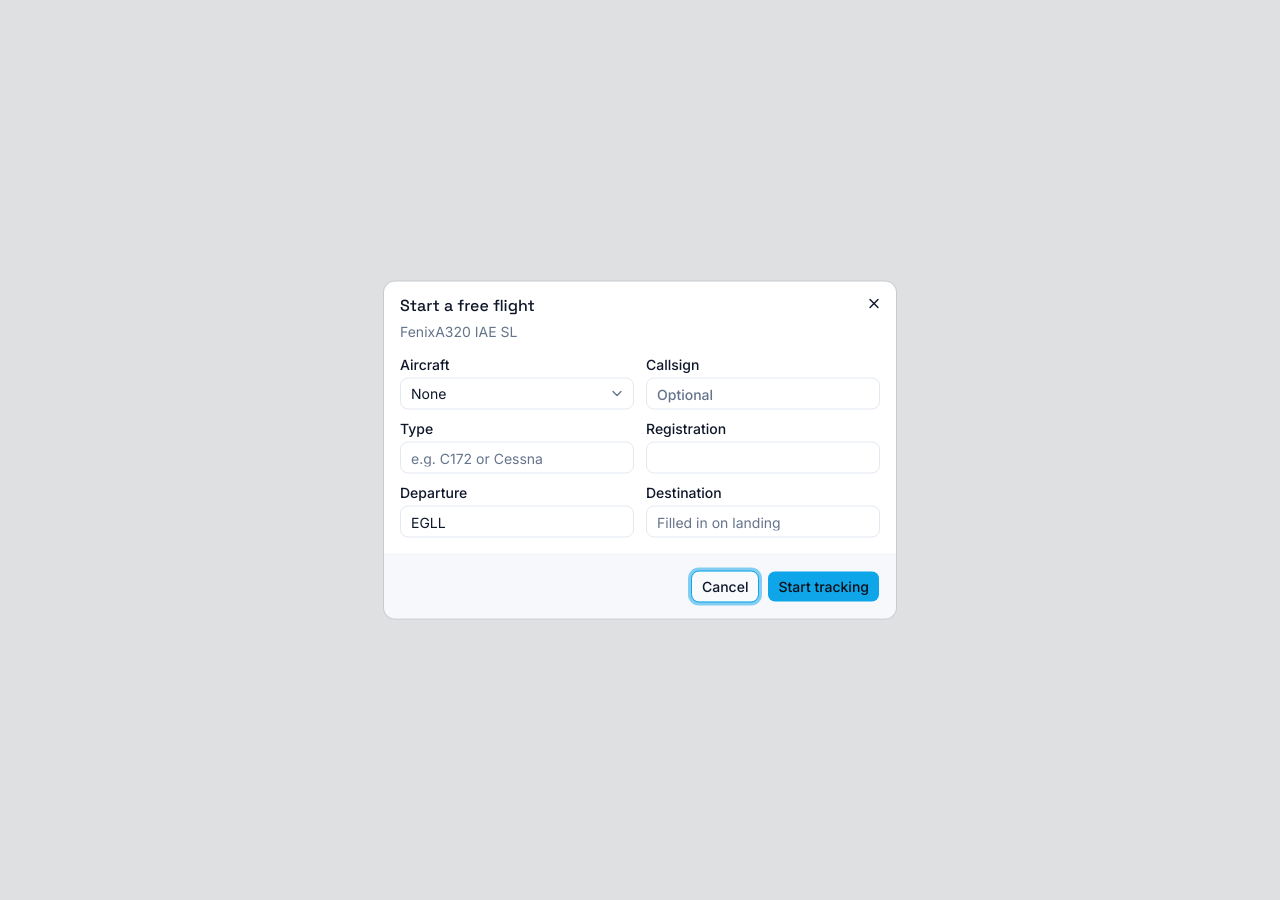
StartFreeFlightDialog › requires a registration and type when tracking without a fleet aircraft
Expected: the field labelled "Registration" is empty, x1=646 y1=442 x2=880 y2=474
Click the dropdown. click: point(517, 394)
box: x1=400 y1=378 x2=634 y2=410
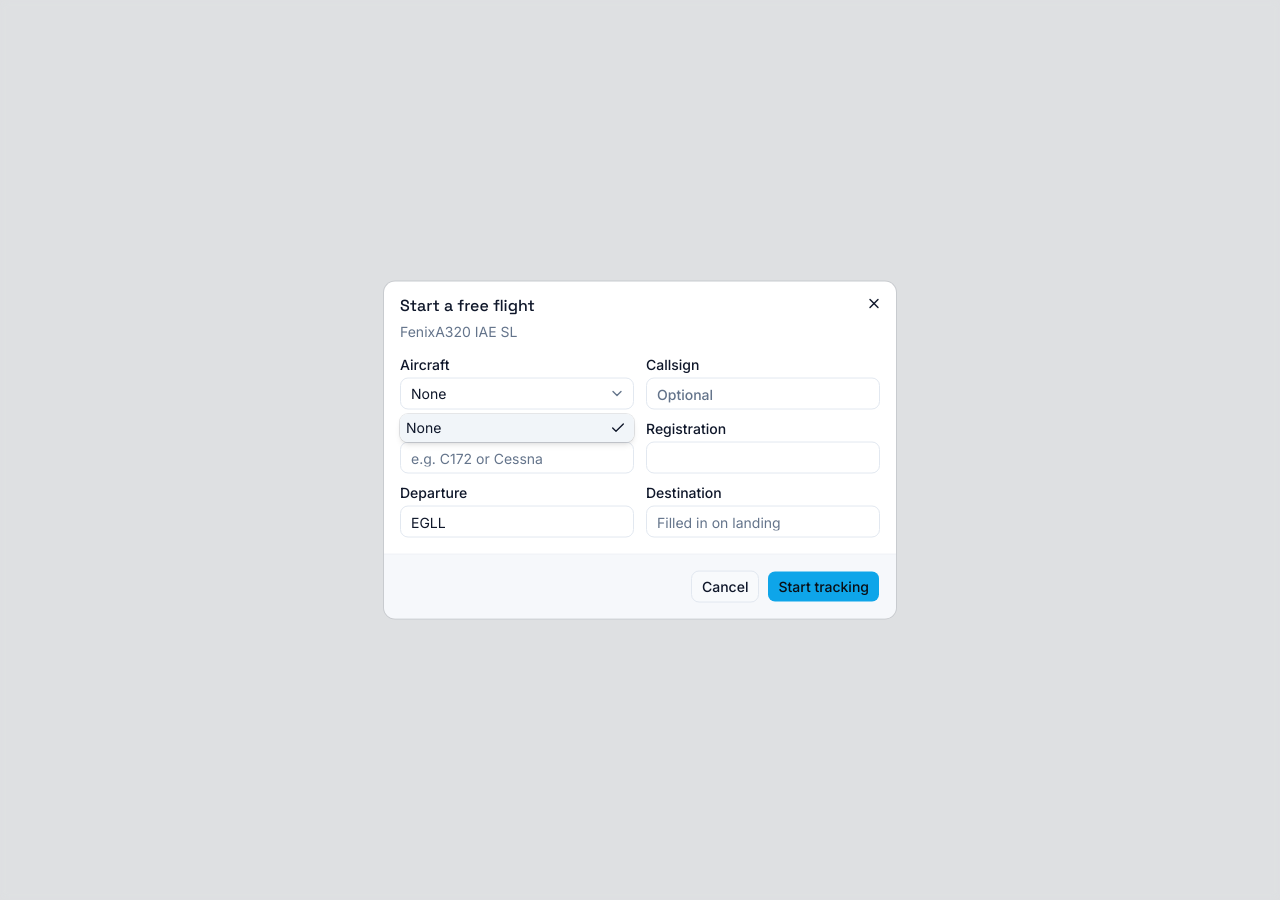
Click the option "None". click: point(517, 428)
box: x1=400 y1=414 x2=634 y2=442
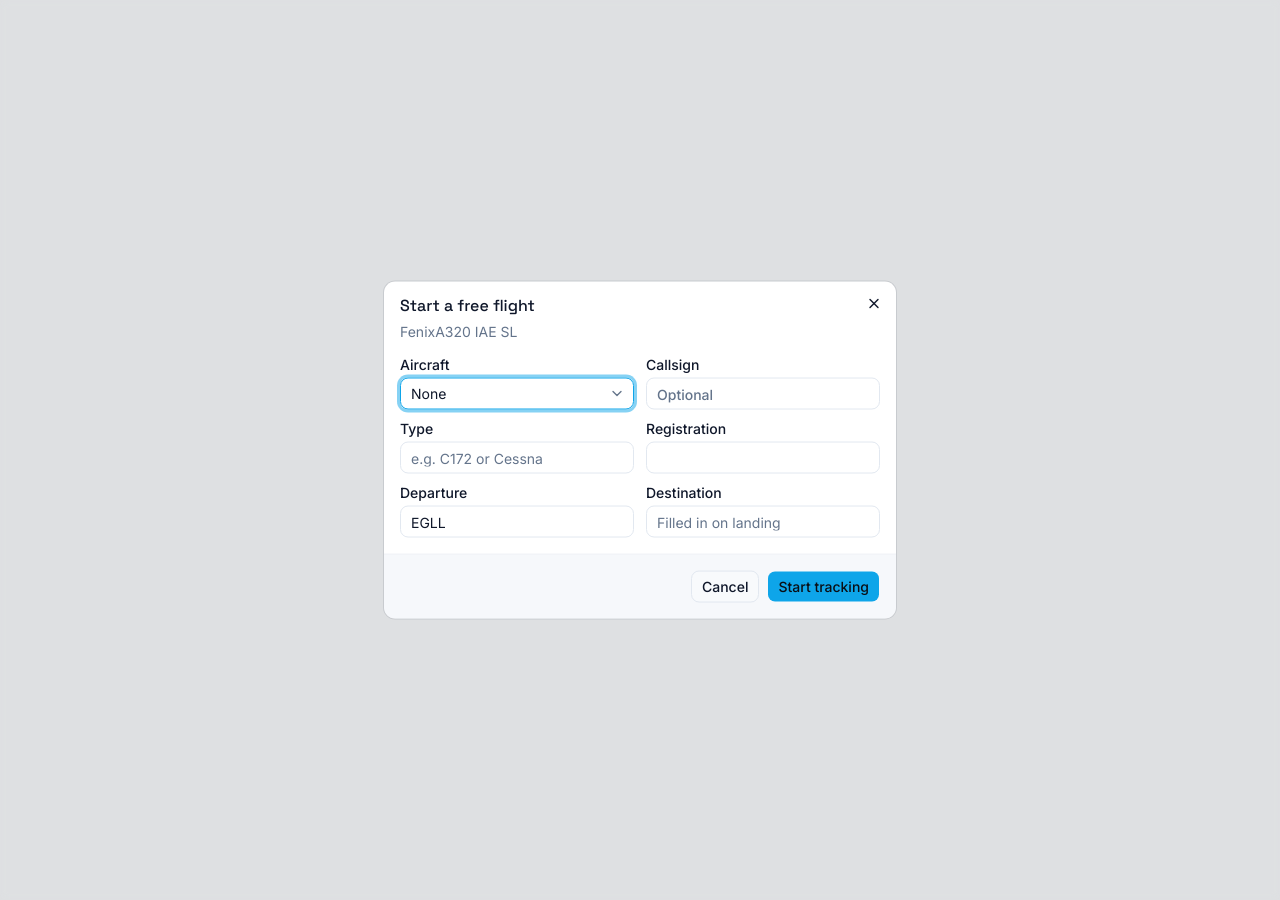
Click the button "Start tracking". click: point(824, 586)
box: x1=767 y1=570 x2=880 y2=602
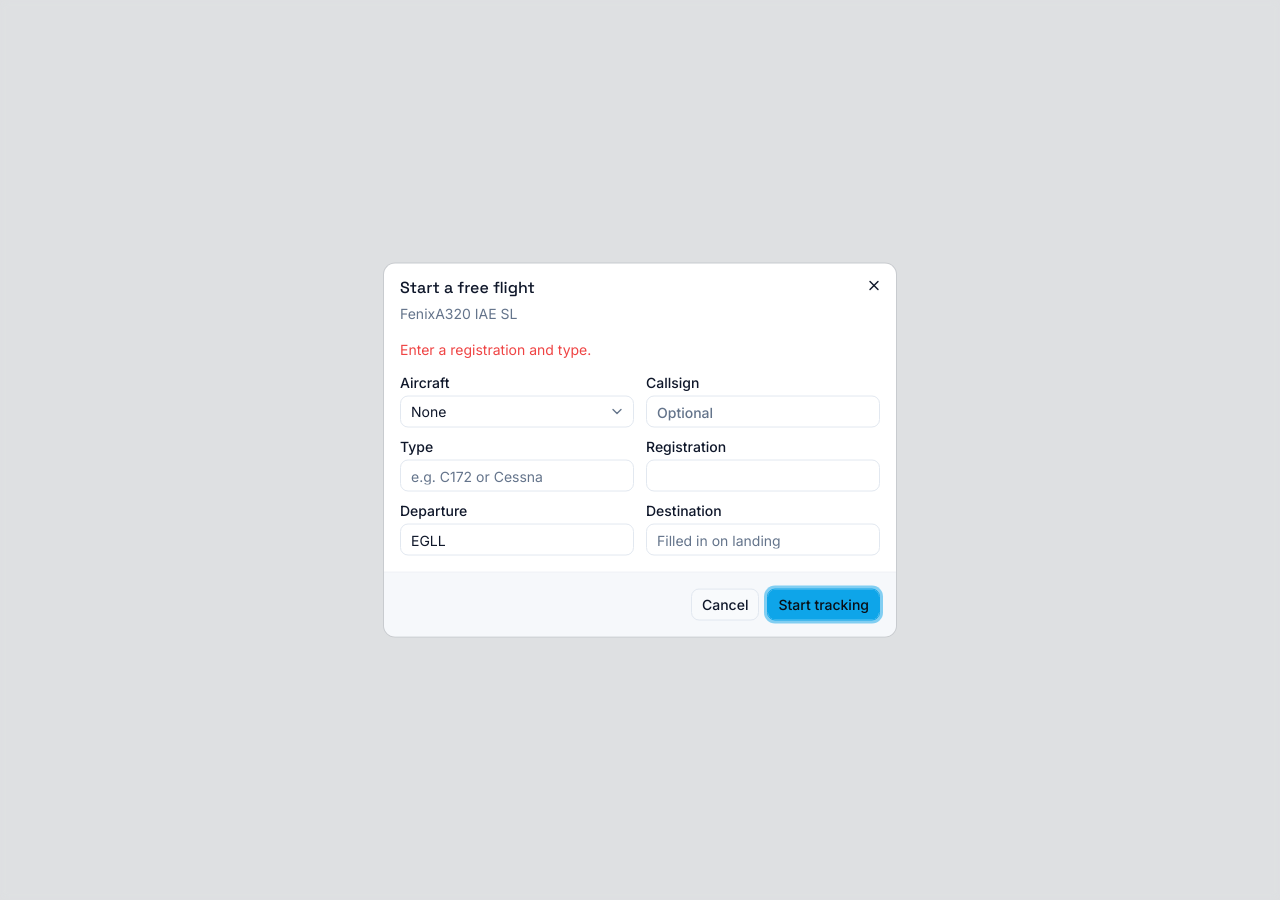
Expected: the text "Enter a registration and type." is shown, x1=400 y1=340 x2=591 y2=358
